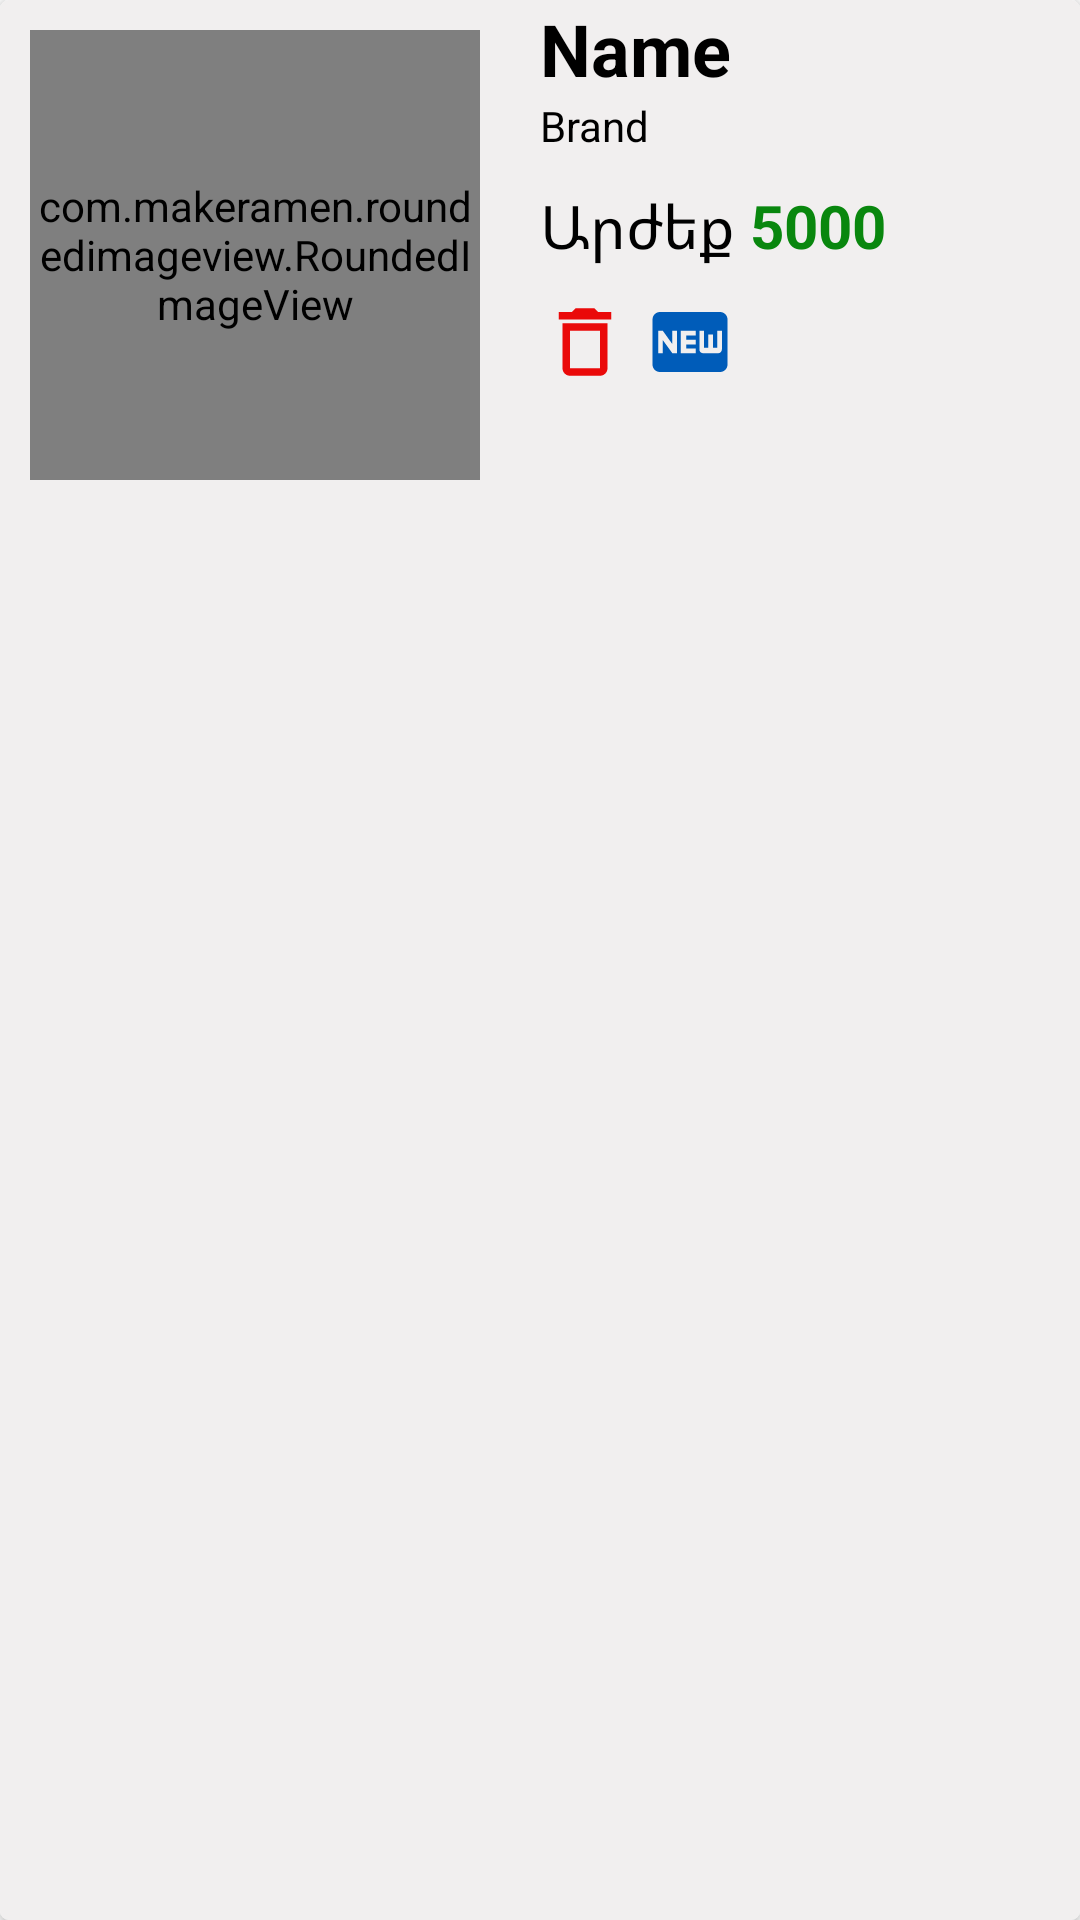

Icon click points for this 1080 × 1920 phone screenshot, format (x=x, y=y):
delete: (x=585, y=342)
